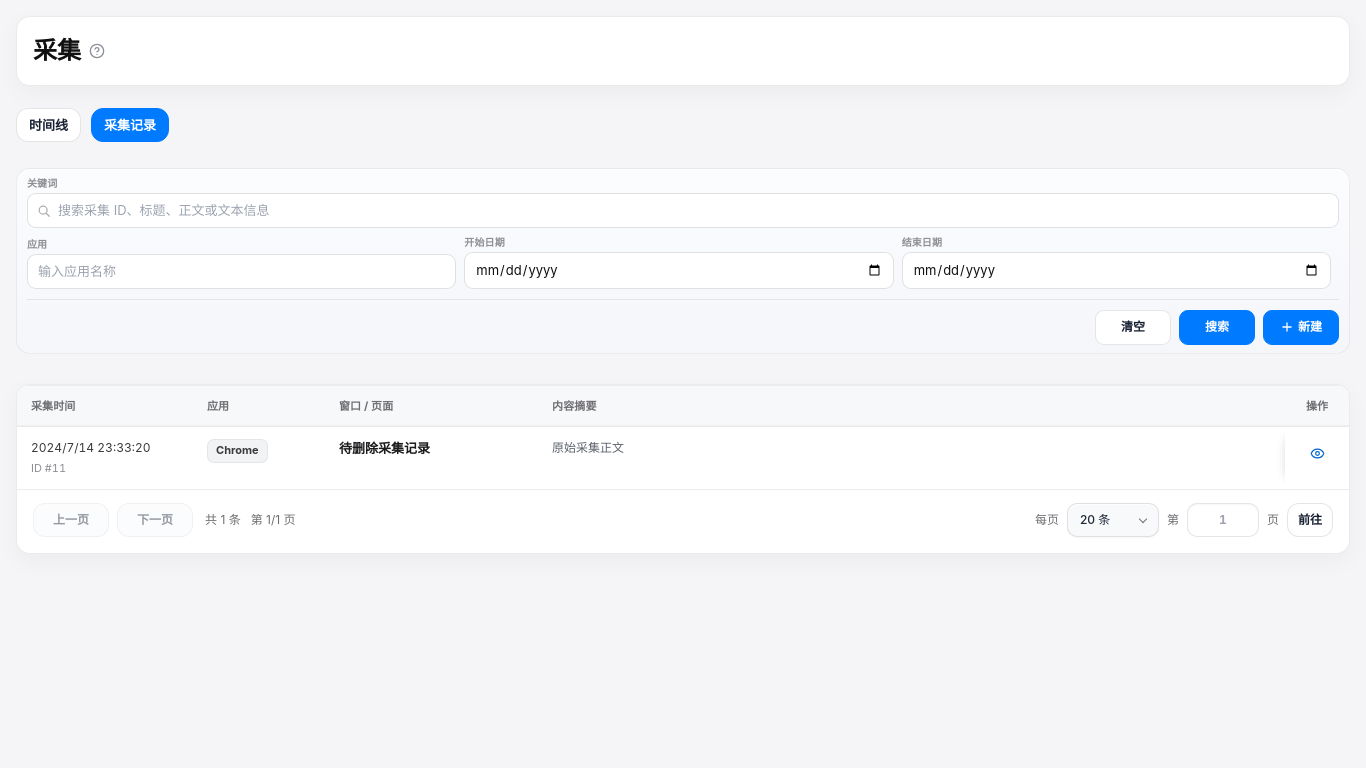
Test: 采集与时间线删除 › 确认后删除采集记录并清除详情
Expected: the text "待删除采集记录" is shown, [339,440,430,456]
Expected: the text "尚未归入时间线" is not shown
Click the button named "查看采集记录 #11 详情".
click(1317, 453)  # box [1303,439,1331,467]
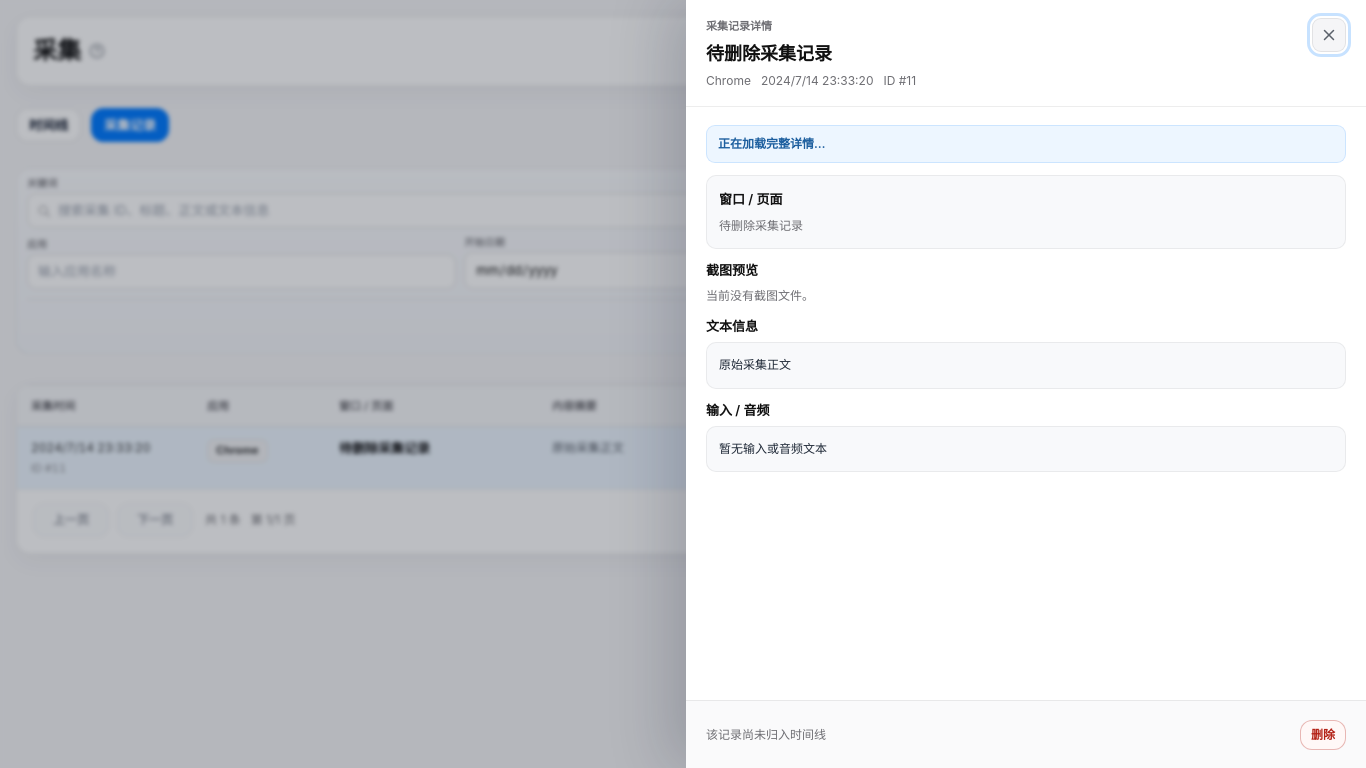
Click the button "删除".
click(1323, 734)  # box [1300,720,1346,750]
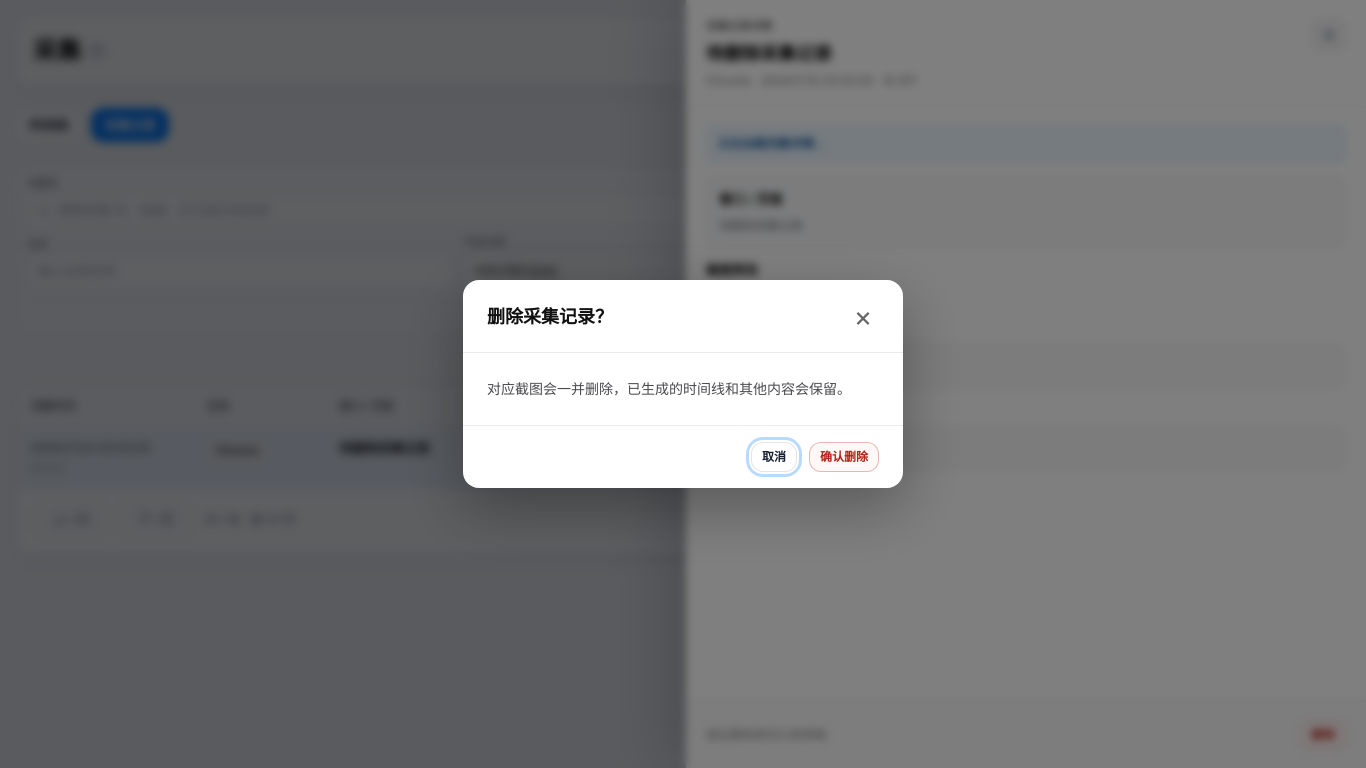
Expected: the dialog "删除采集记录？" is shown, [463,280,903,488]
Click the button "确认删除".
click(844, 457)  # box [809,442,879,472]
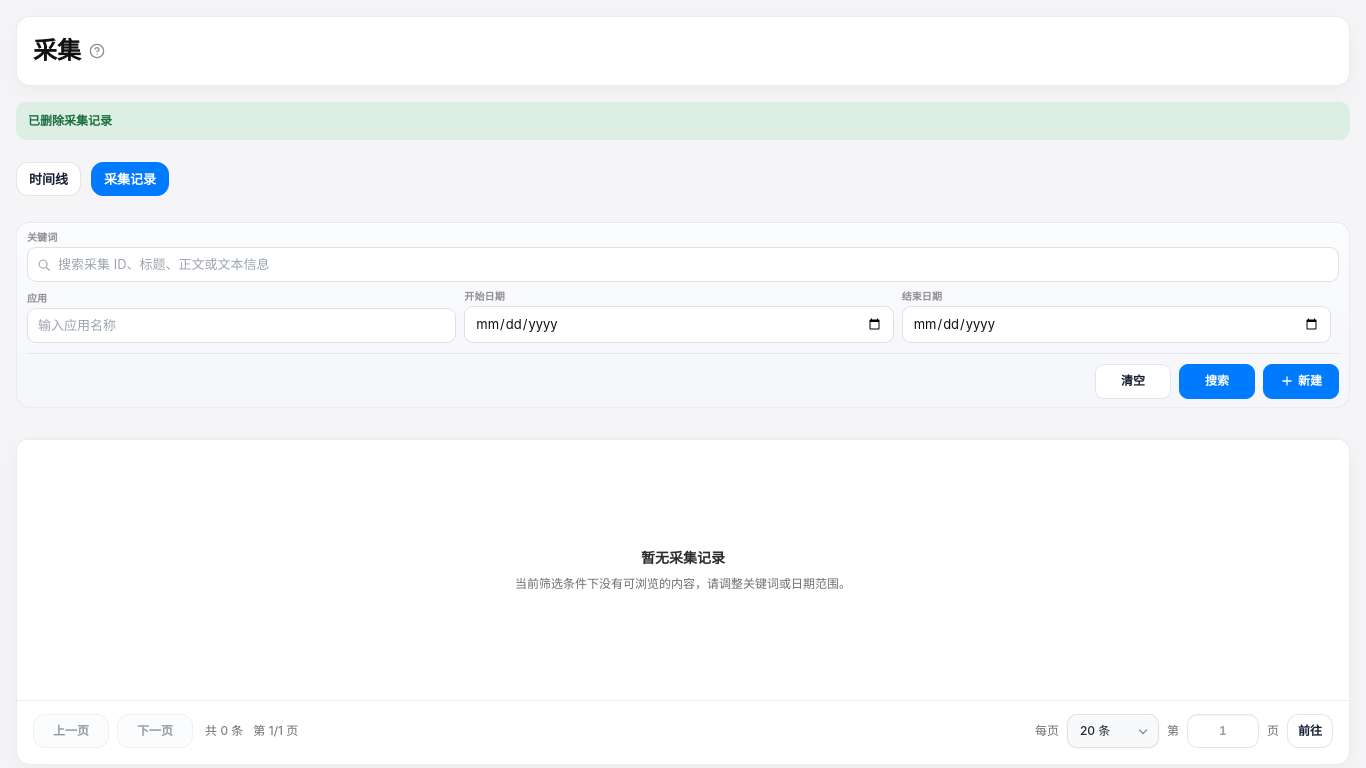
Expected: the text "已删除采集记录" is shown, [16,102,1350,140]
Expected: the text "暂无采集记录" is shown, [641,547,725,568]
Expected: the text "待删除采集记录" is gone
